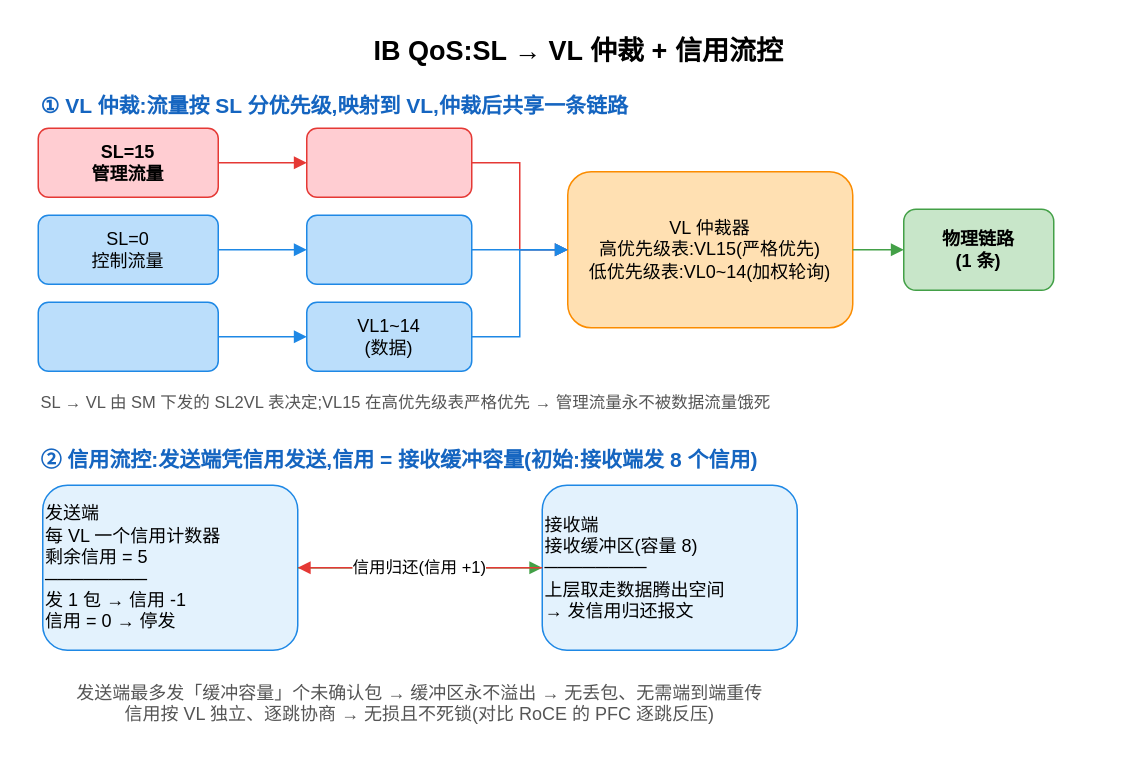
The diagram is 1143 pixels wide and 758 high, and some of its shapes have lost their labels. Here are the shapes that lost their labels. From the top down, the centre of each, then its label:
At [388,162]: "VL15 (管理)".
At [388,249]: "VL0 (控制)".
At [127,336]: "SL=1~14 数据流量".
